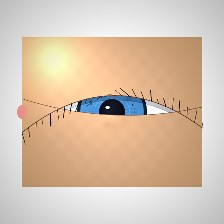hemorrhage_spot: (51, 96, 120, 151)
